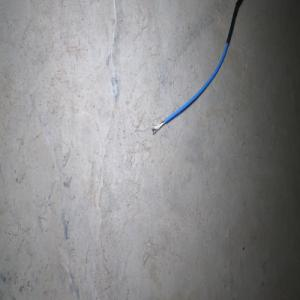Wire: (151, 0, 244, 135)
